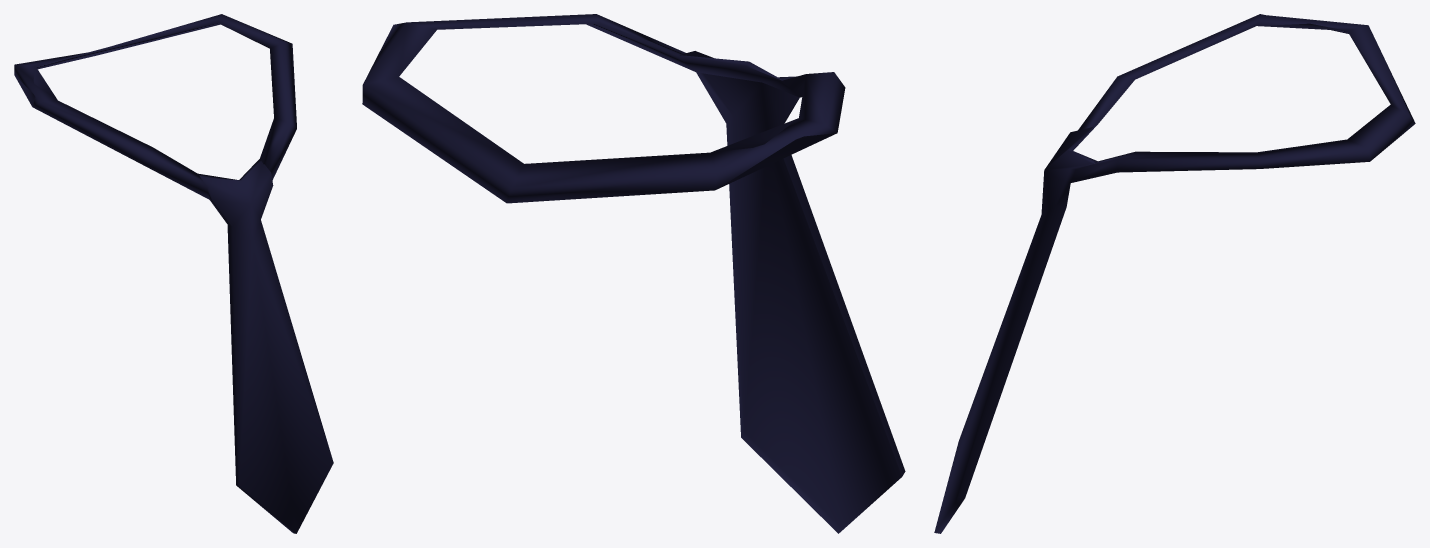
The model's file is CUNeckTie.fbx.
3 views of the same model, side by side, from view 1: azimuth 30°, elevation 25°; view 2: azimuth 150°, elevation 25°; view 3: azimuth 270°, elevation 25° (orthographic). The views are drawn at different scales.
Visible parts, largest first — view 1: Tie; view 2: Tie; view 3: Tie.
Boxes of the visible parts, x1,y1,x2,y2 form: Tie: [14, 14, 333, 533]; Tie: [362, 14, 905, 533]; Tie: [934, 14, 1415, 533].
Size of the model in its own units: 86.56 by 117 by 114.
